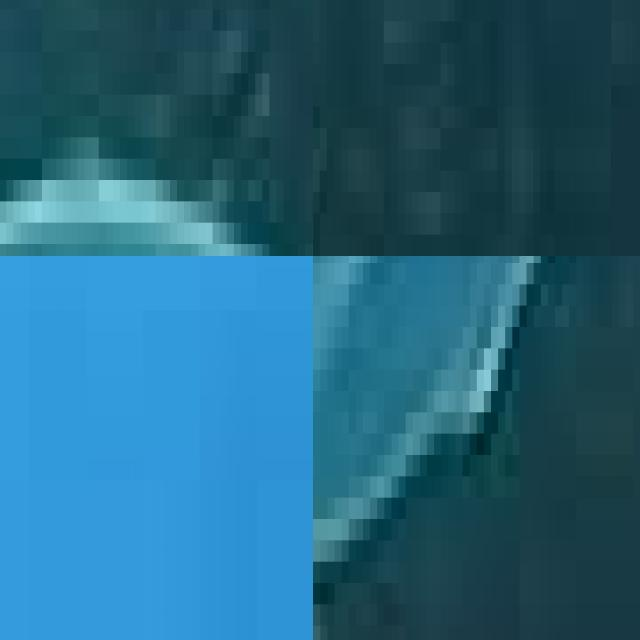fish: (313, 256, 640, 583), (0, 0, 313, 256)
